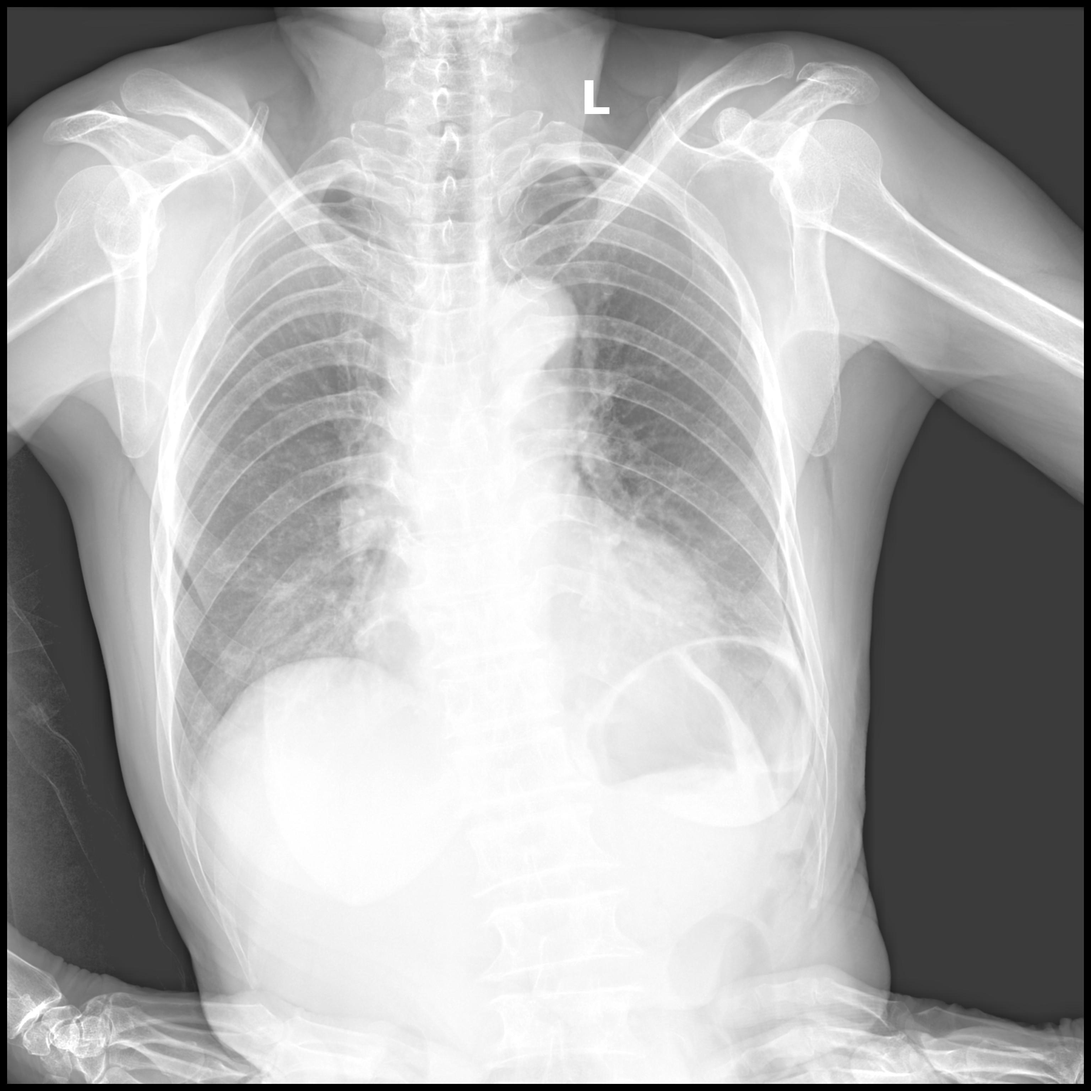Aortic enlargement: (504, 275, 579, 372)
Cardiomegaly: (351, 569, 724, 703)
